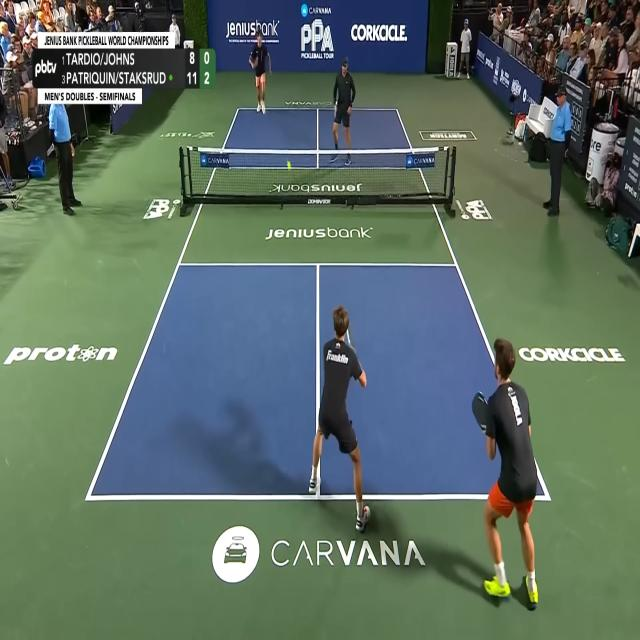ball: (287, 160, 291, 170)
